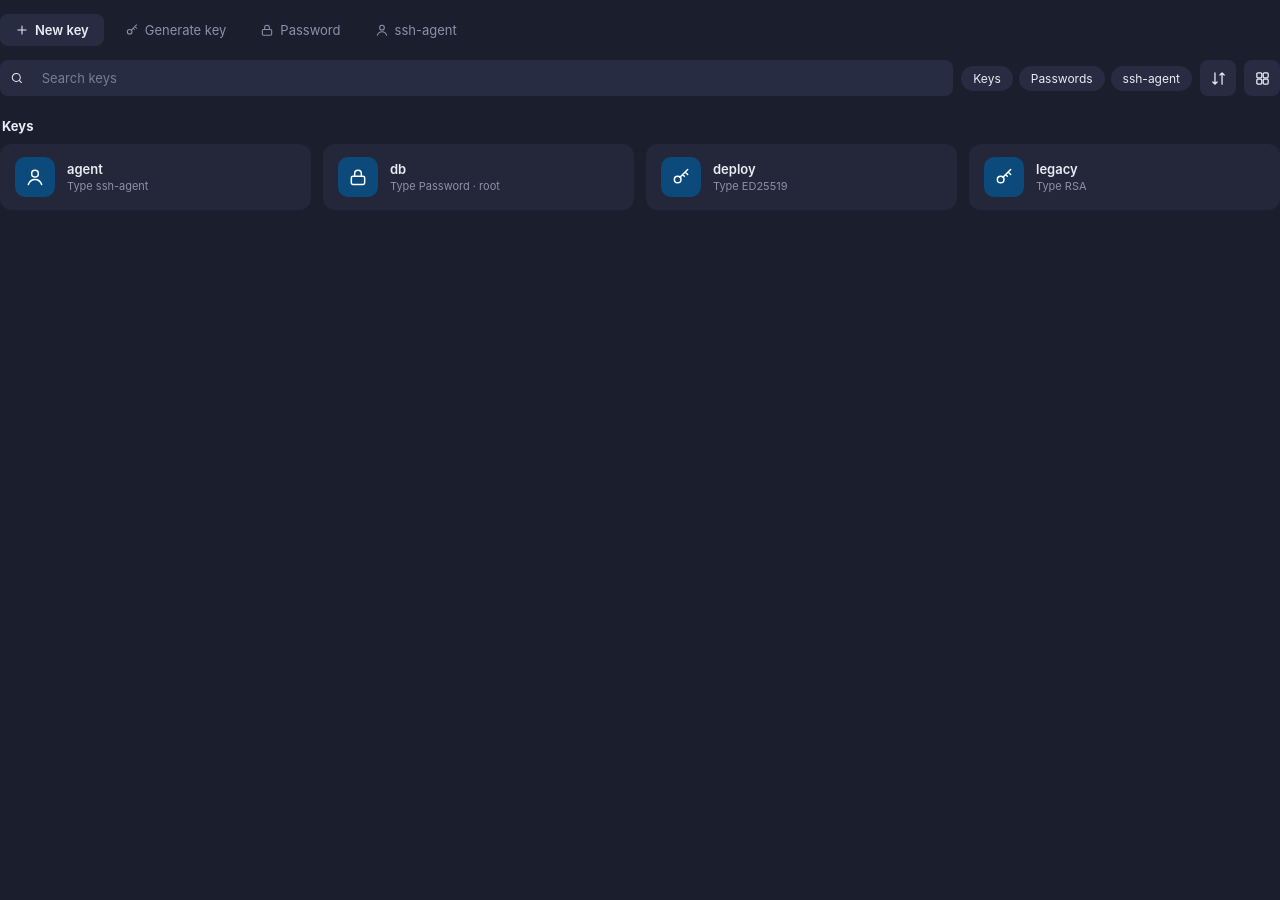
Test case: New Key panel: the design › has Label, Private key, Public key and Certificate in that order, then the drop area and the import button
Click the button "New key": [52, 30] box x1=0 y1=14 x2=104 y2=46
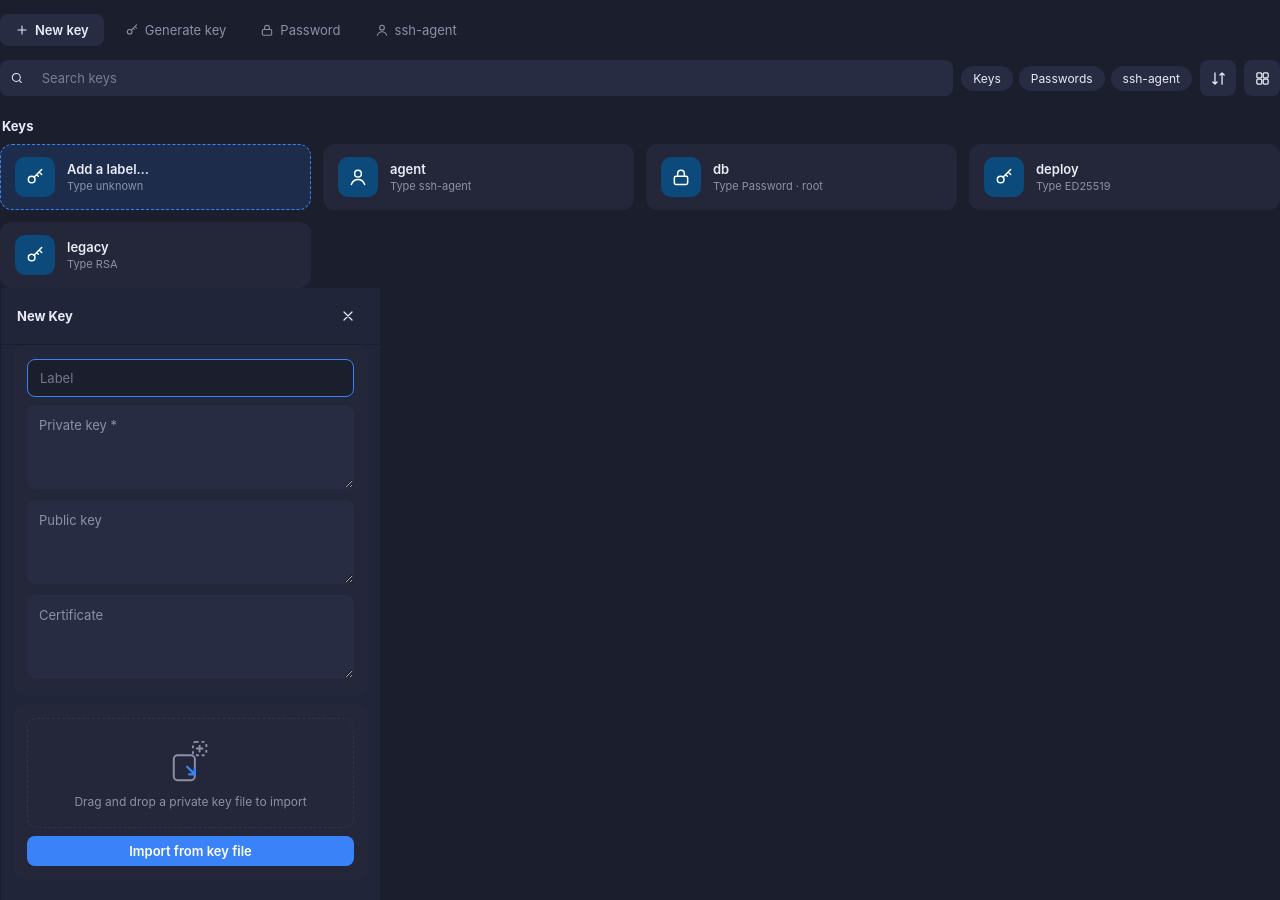
Check: the text "Private key *" is shown, box x1=39 y1=417 x2=117 y2=433
Check: the text "Public key" is shown, box x1=39 y1=512 x2=102 y2=528
